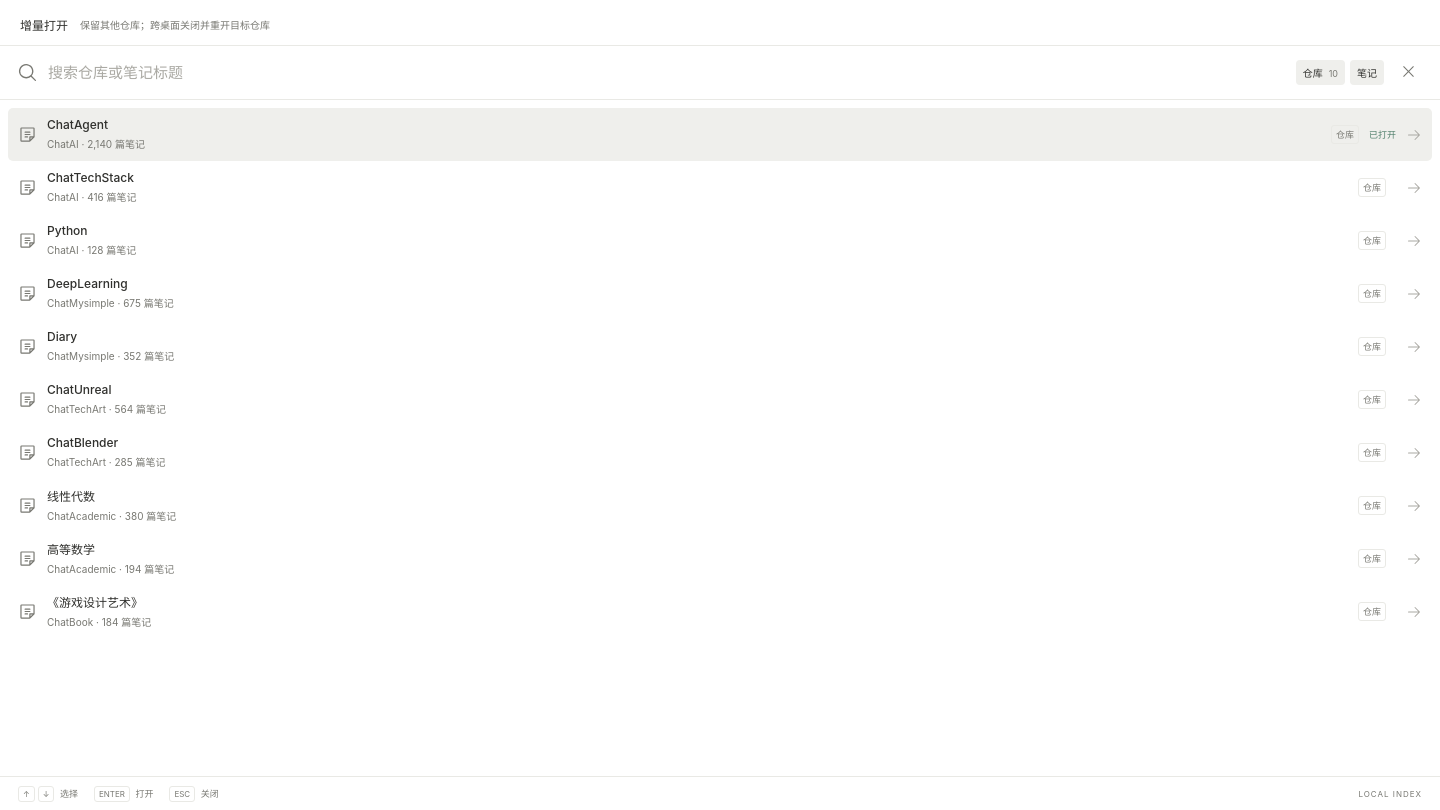
Test case: QuickSwitcher › filters results by the two remembered type switches
Click the button with aria-label "仓库，共". click: (1320,72)
box: [1296,60,1345,85]
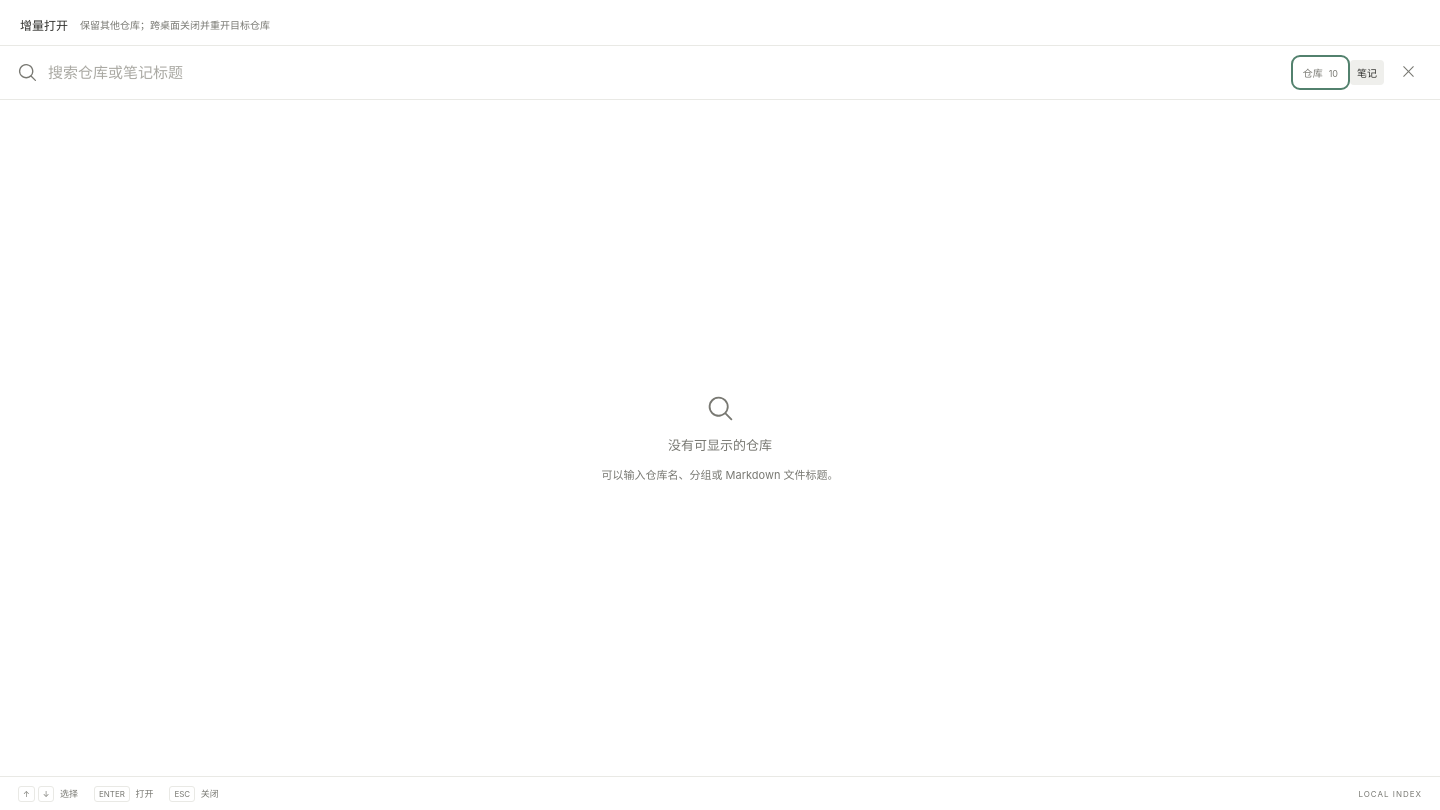
Now the button with aria-label "仓库，共" is not pressed, box [1296,60,1345,85]
Type "Agent" into the field labelled "搜索仓库或笔记标题". click: (667,72)
box: [48,59,1286,86]
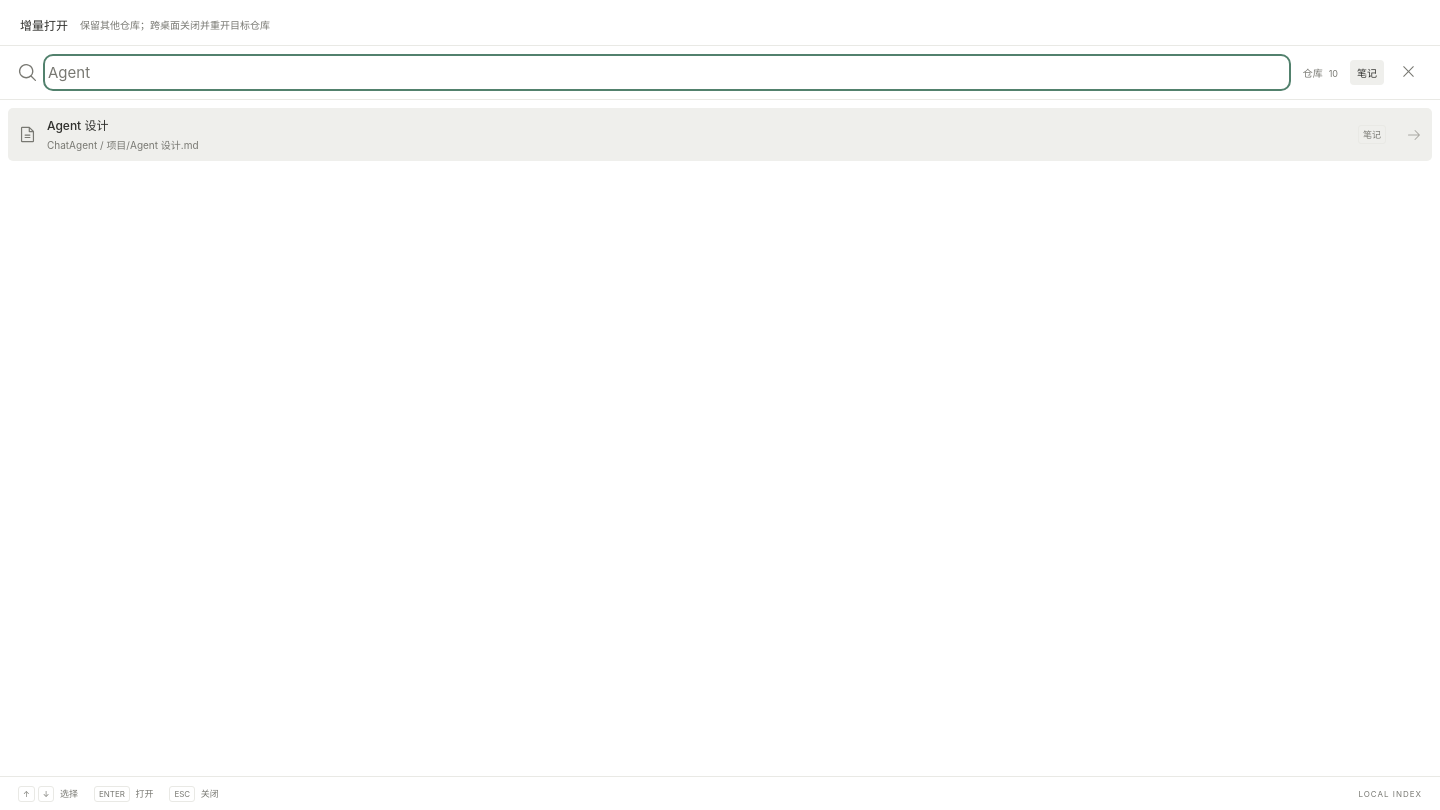
Now the text "Agent 设计" is shown, box [47,118,108,132]
Now the number of options is 1, box [8,108,1432,161]
Now the option shows "笔记", box [8,108,1432,161]
